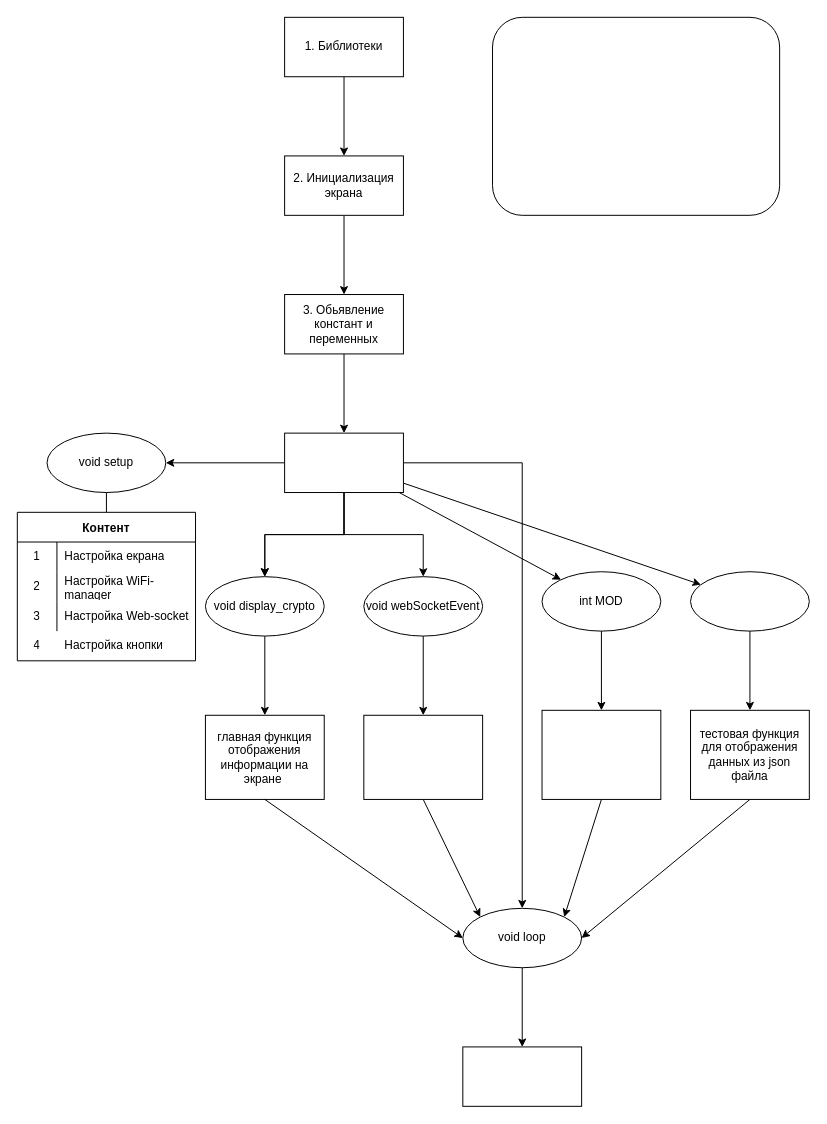
The diagram is 827 pixels wide and 1124 high, and some of its shapes have lost their labels. The centre of each missing label's shape, as x and y in pixels:
"1.webSocket 2. MOD 3 display_crypto 4 jsontest" goes at point 522,1076.
"4. Функции" goes at point 343,462.
"void jsontest" goes at point 749,601.
"отвечает за подключение к бинанс апи и получение нагрузки криптовалют" goes at point 423,756.
"Структура ПО устройства на текущий момент" goes at point 636,115.
"функция кнопки, переключает данные между разными наборами" goes at point 601,754.
